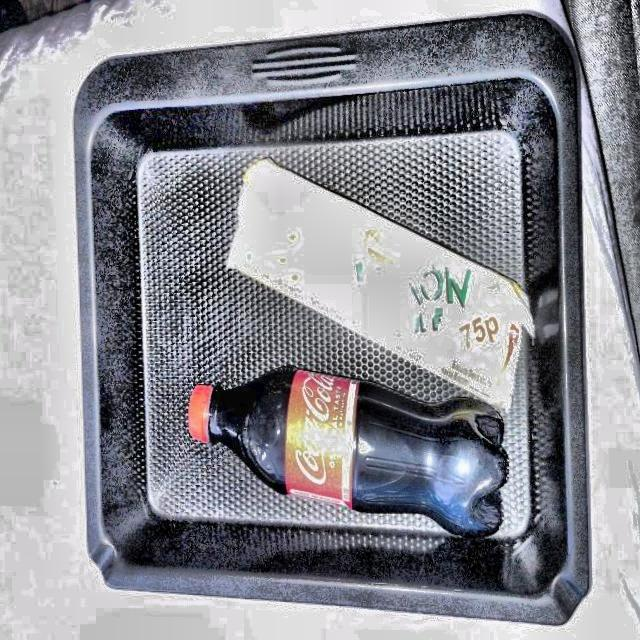coke-bottle: (179, 364, 507, 550)
lemon puff: (230, 146, 526, 414)
